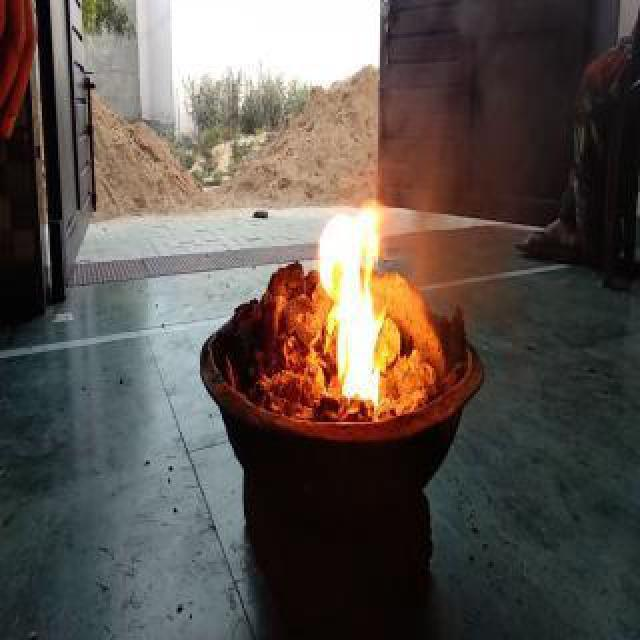smoke: (386, 4, 538, 344)
zfire: (316, 172, 386, 422)
